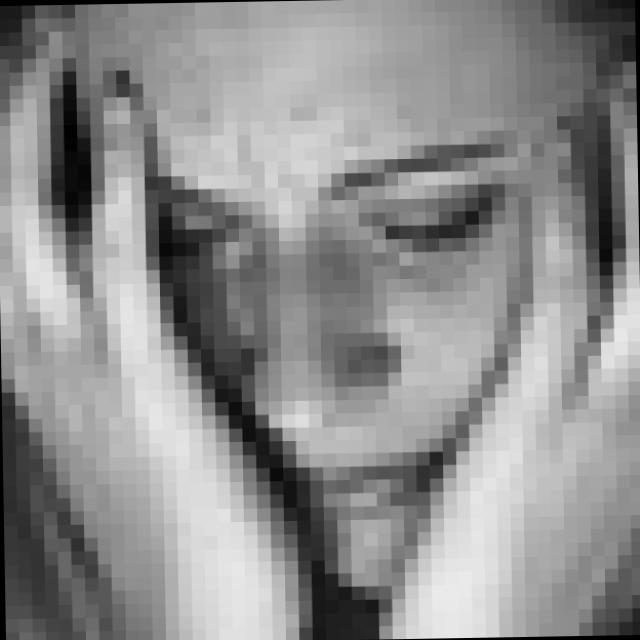sad: (146, 135, 524, 540)
